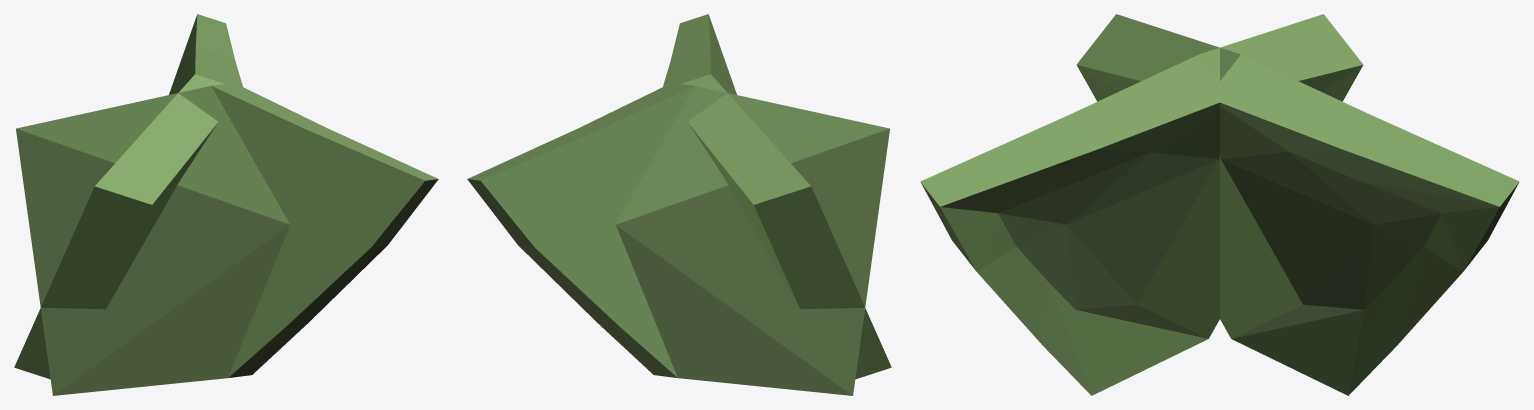
File: or_pointed.glb
3 views of the same model, side by side, from view 1: azimuth 30°, elevation 25°; view 2: azimuth 150°, elevation 25°; view 3: azimuth 270°, elevation 25° (orthographic). The views are drawn at different scales.
Visible parts, largest first — view 1: Ear_R, Ear_L; view 2: Ear_L, Ear_R; view 3: Ear_L, Ear_R.
Part boxes in pixels (left/top/right/bottom): Ear_R: left=16, top=83, right=438, bottom=395; Ear_L: left=14, top=14, right=243, bottom=379; Ear_L: left=467, top=83, right=889, bottom=395; Ear_R: left=662, top=14, right=891, bottom=379; Ear_L: left=1076, top=14, right=1519, bottom=395; Ear_R: left=920, top=14, right=1363, bottom=395.
Size of the model in its own units: 0.0511 by 0.0455 by 0.0675.
1 material, 1 textured.
